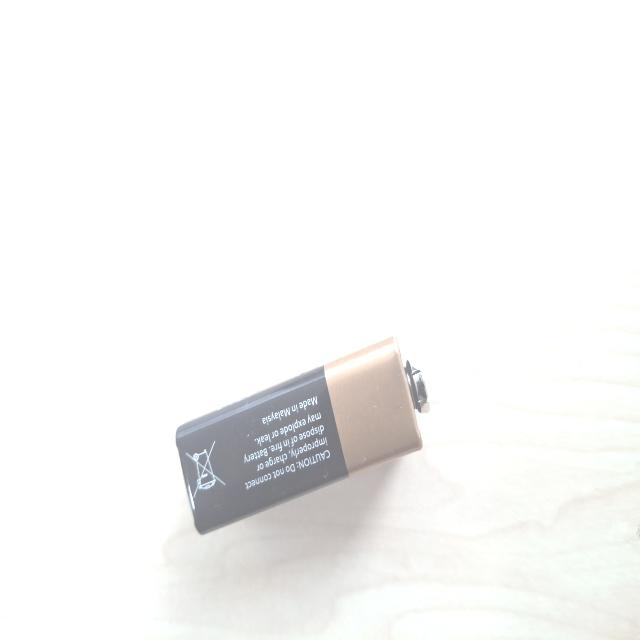9V: (249, 284, 400, 616)
